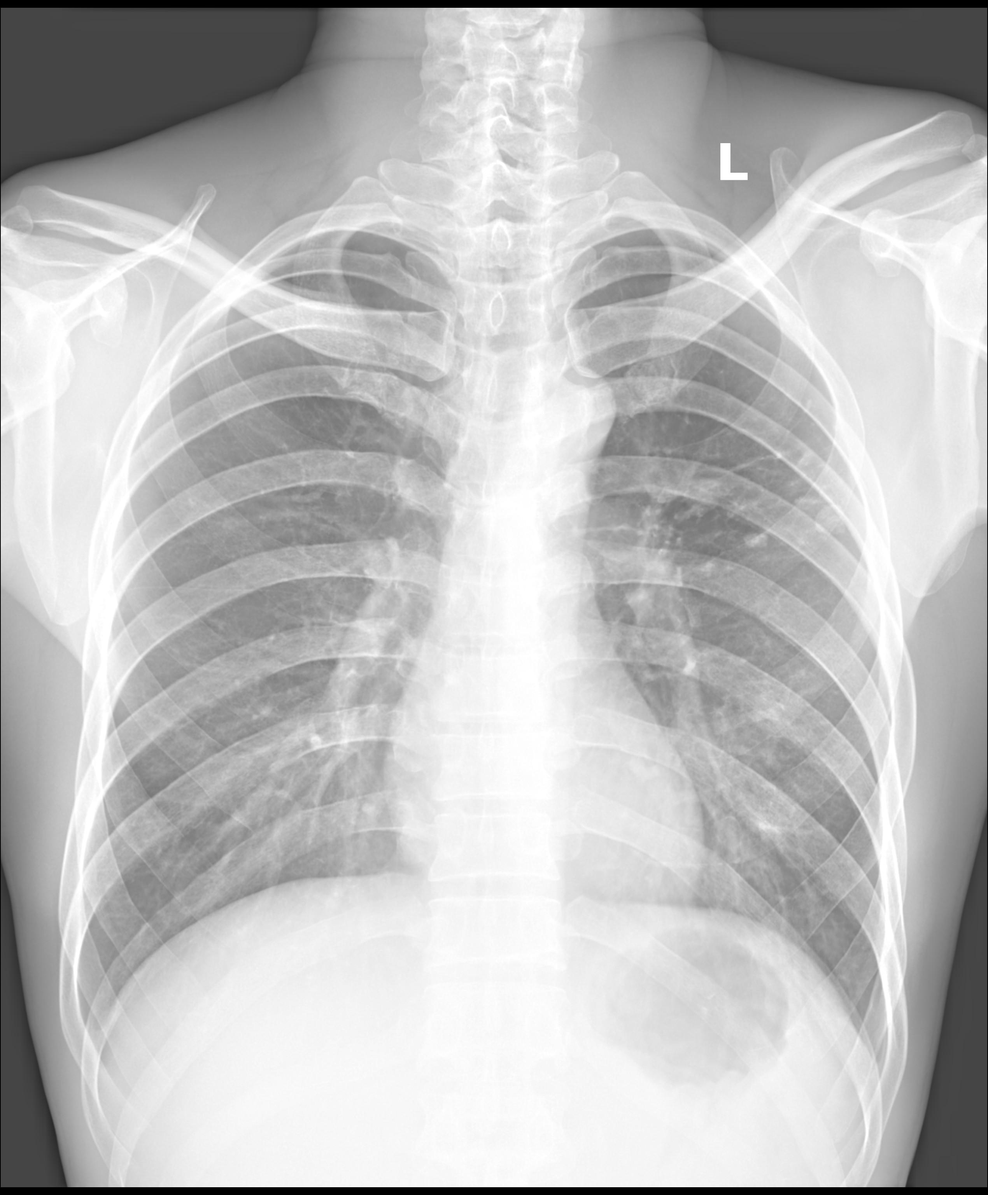Pulmonary fibrosis: (643, 436, 864, 552)
